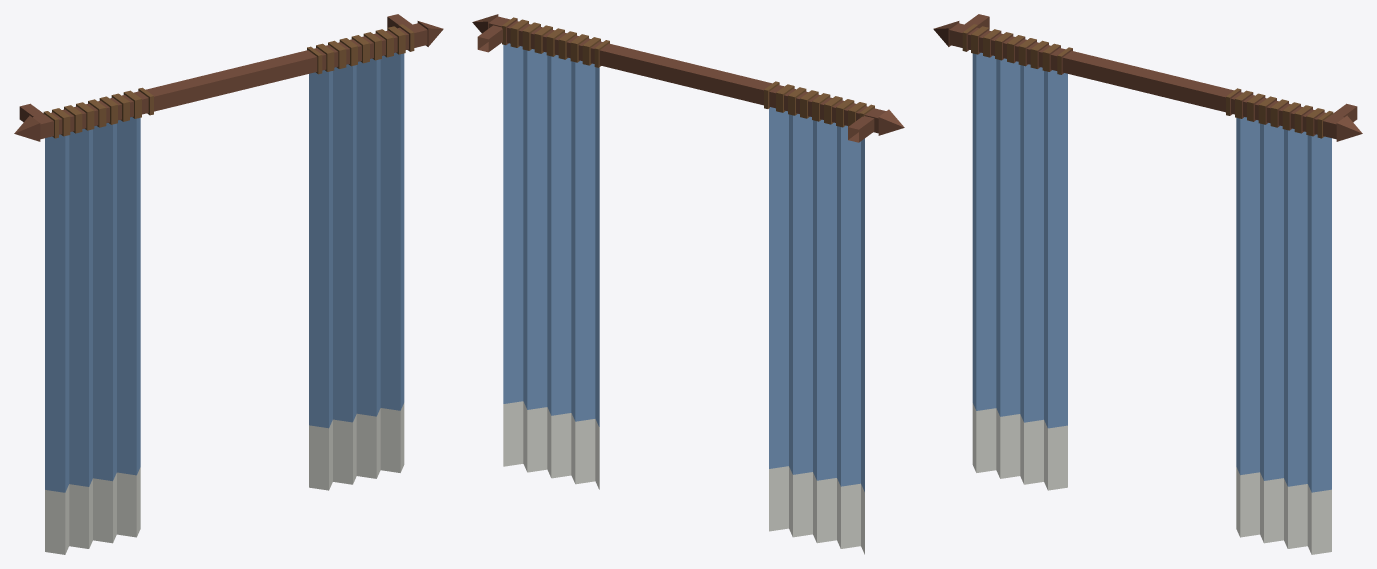
Rendered from Curtain_2A.fbx.
3 views of the same model, side by side, from view 1: azimuth 30°, elevation 25°; view 2: azimuth 150°, elevation 25°; view 3: azimuth 330°, elevation 25° (orthographic).
Parts seen in each view (by area): view 1: polySurface784; view 2: polySurface784; view 3: polySurface784.
Part boxes in pixels (x1=…): polySurface784: x1=14, y1=14, x2=443, y2=554; polySurface784: x1=472, y1=14, x2=904, y2=554; polySurface784: x1=933, y1=14, x2=1362, y2=554.
Bounding box in the file's own units: 3.16 × 3.08 × 0.3278.
1 material, 1 textured.
